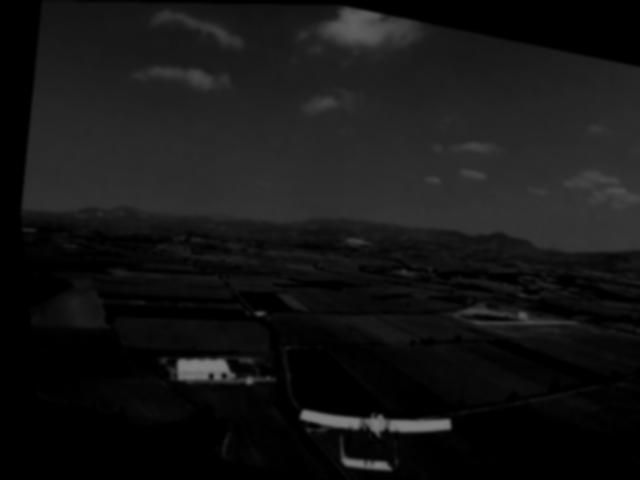hedef: (268, 367, 469, 480)
